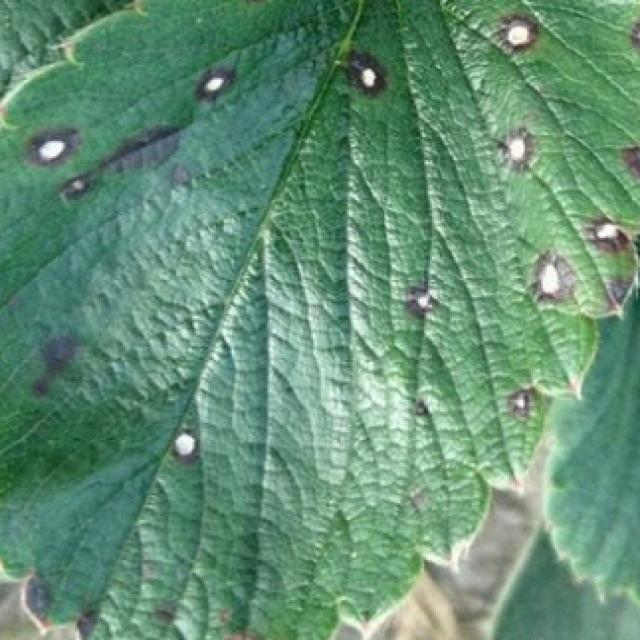Leaf Spot: (0, 0, 640, 640), (487, 517, 640, 640)
